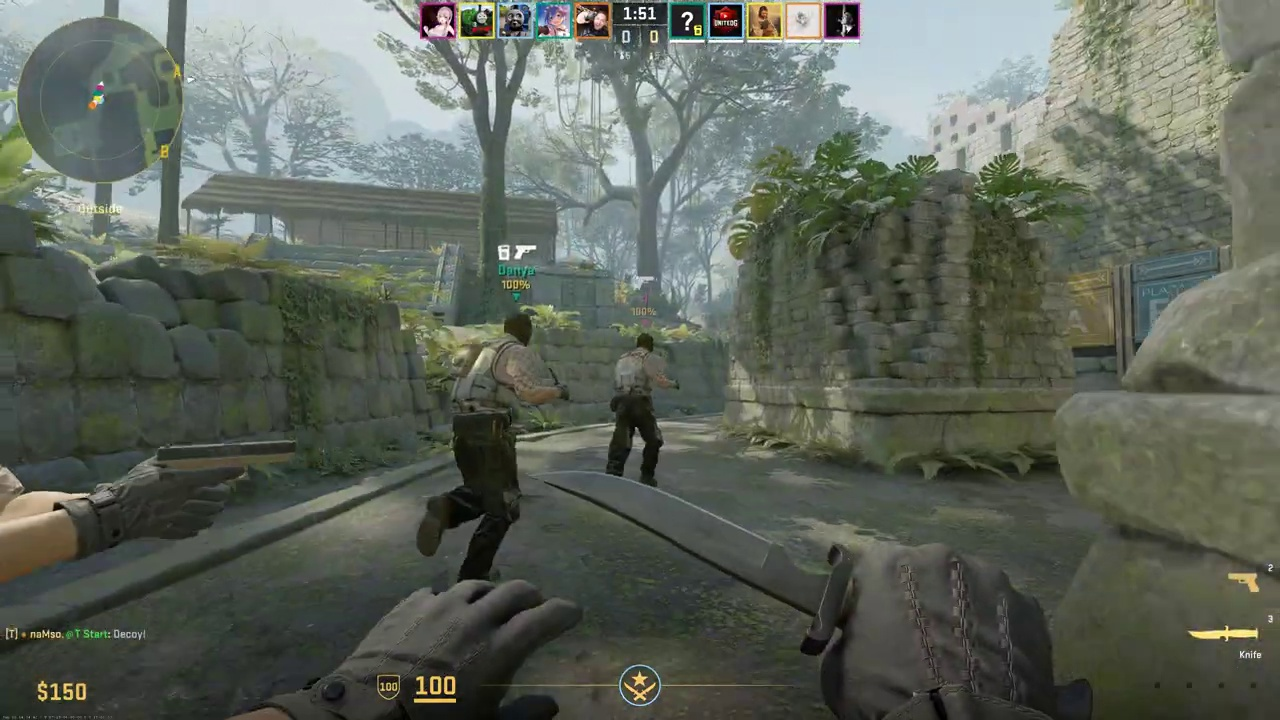Terrorist: (432, 312, 544, 581), (610, 333, 669, 489)
